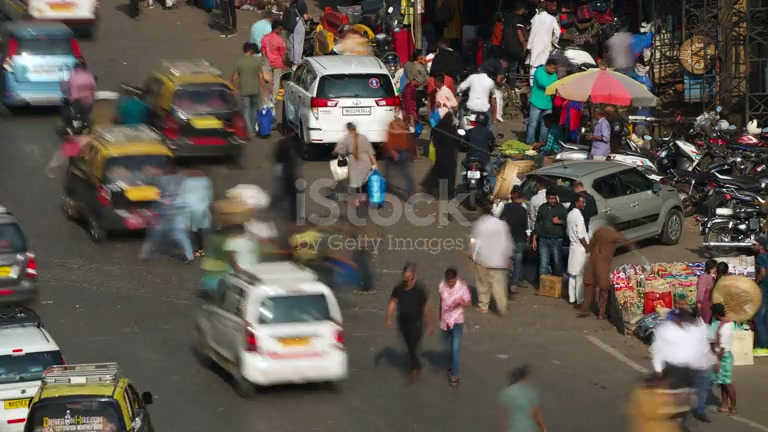car: (192, 264, 349, 396), (521, 156, 686, 247), (61, 122, 181, 243), (125, 58, 251, 165), (280, 54, 402, 161), (23, 362, 156, 431), (0, 20, 87, 113), (0, 310, 67, 430), (0, 213, 39, 304), (24, 1, 101, 39)
motorcycle: (697, 187, 768, 247)
pedestrian: (649, 290, 719, 424), (575, 216, 649, 325), (384, 262, 430, 384), (469, 197, 514, 317), (437, 266, 473, 387), (230, 41, 273, 135), (495, 363, 549, 432), (174, 167, 215, 257), (708, 305, 739, 415), (533, 189, 569, 283), (498, 188, 529, 294), (565, 191, 592, 308), (525, 57, 560, 146), (59, 59, 98, 131), (695, 260, 719, 326), (588, 105, 612, 161)
